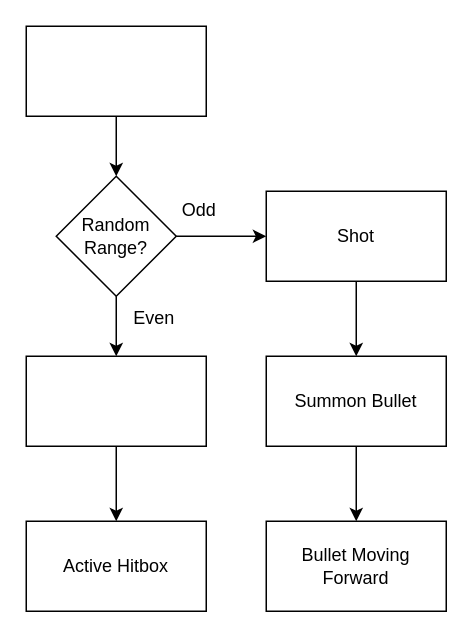
Image size: 473x638. Some labels were removed from this diagram. Here are the shapes that lost their labels. From the top down, the centre of each, then its label:
point (115, 70): Enemies Attack
point (115, 400): Wielding
